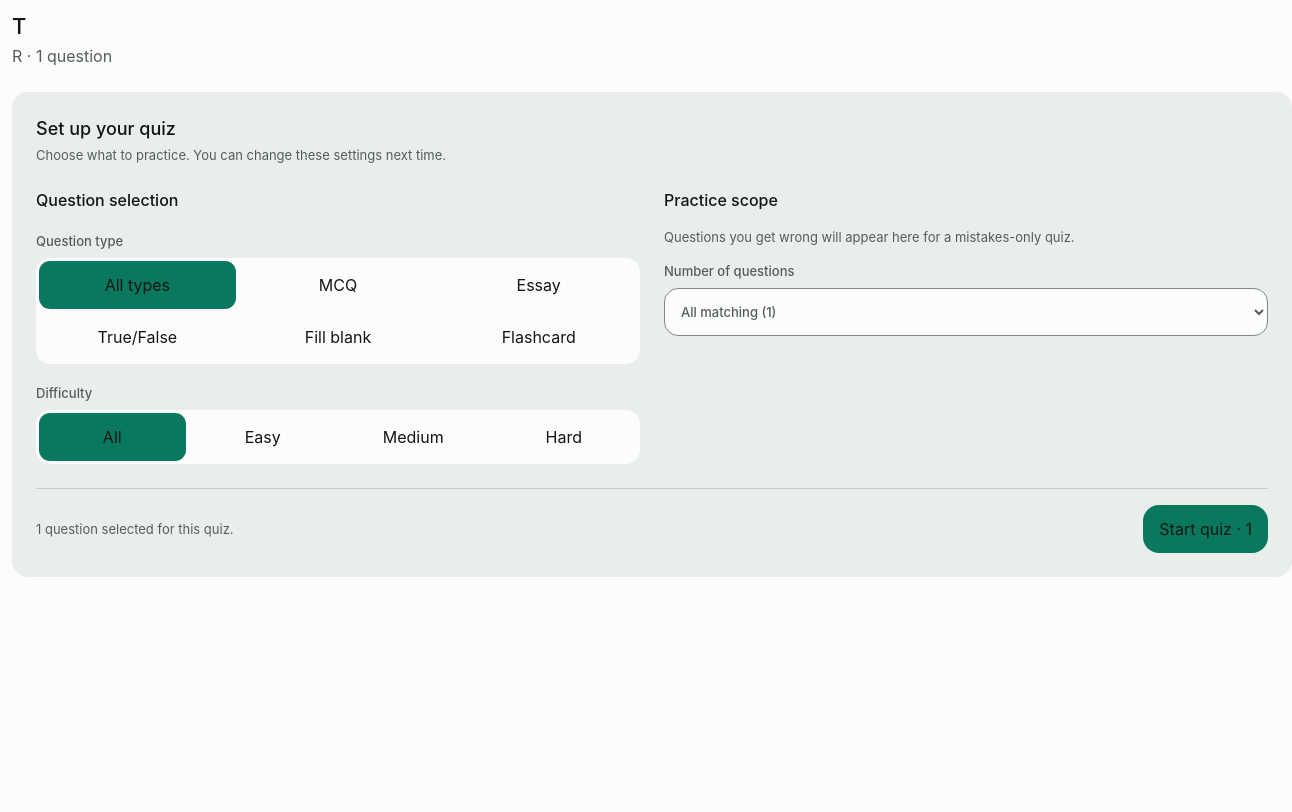
QuizSetup › explains an empty selection instead of starting
The image size is (1292, 812).
Click the button "Essay" at [539, 285], box [440,261,637,309]
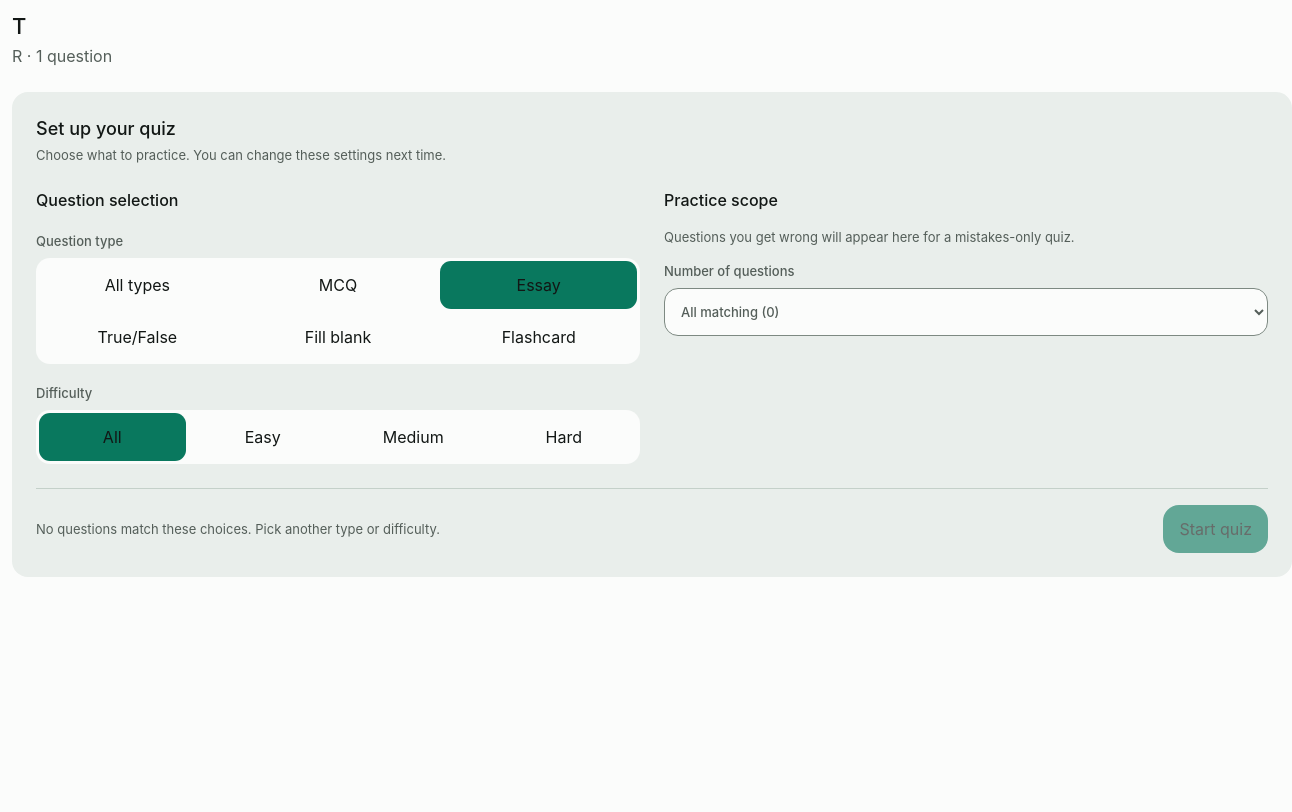
Expected: the text "No questions match" is shown, [36,521,440,537]
Expected: the button "Start quiz" is disabled, [1164,505,1268,553]
